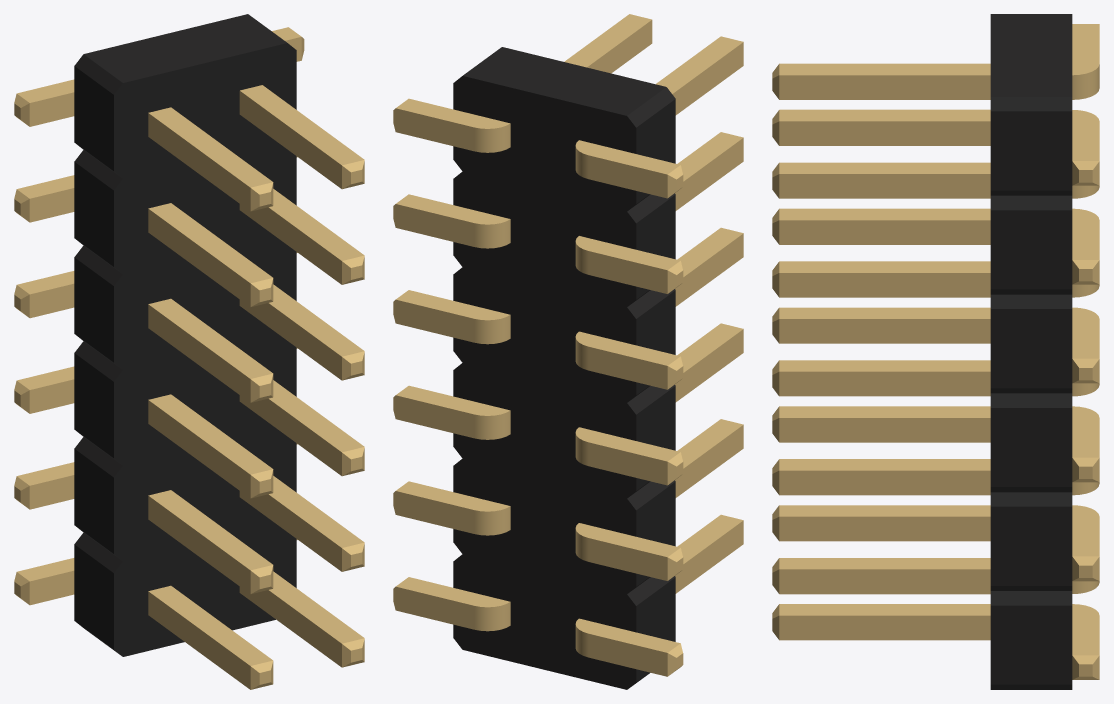
The model's file is PinHeader_2x06_P2.00mm_Vertical_SMD-d60d6a07da30.glb.
3 renders of one model, left to right at view 1: azimuth 30°, elevation 25°; view 2: azimuth 150°, elevation 25°; view 3: azimuth 270°, elevation 25°, orthographic. The views are drawn at different scales.
Visible parts, largest first — view 1: material0, material1; view 2: material0, material1; view 3: material1, material0.
Boxes of the visible parts, x1,y1,x2,y2 form: material0: [74, 14, 296, 656]; material1: [14, 27, 364, 689]; material0: [453, 47, 675, 689]; material1: [393, 14, 743, 676]; material1: [772, 24, 1099, 679]; material0: [990, 14, 1072, 689].
Size of the model in its own units: 6.2 by 12 by 6.
